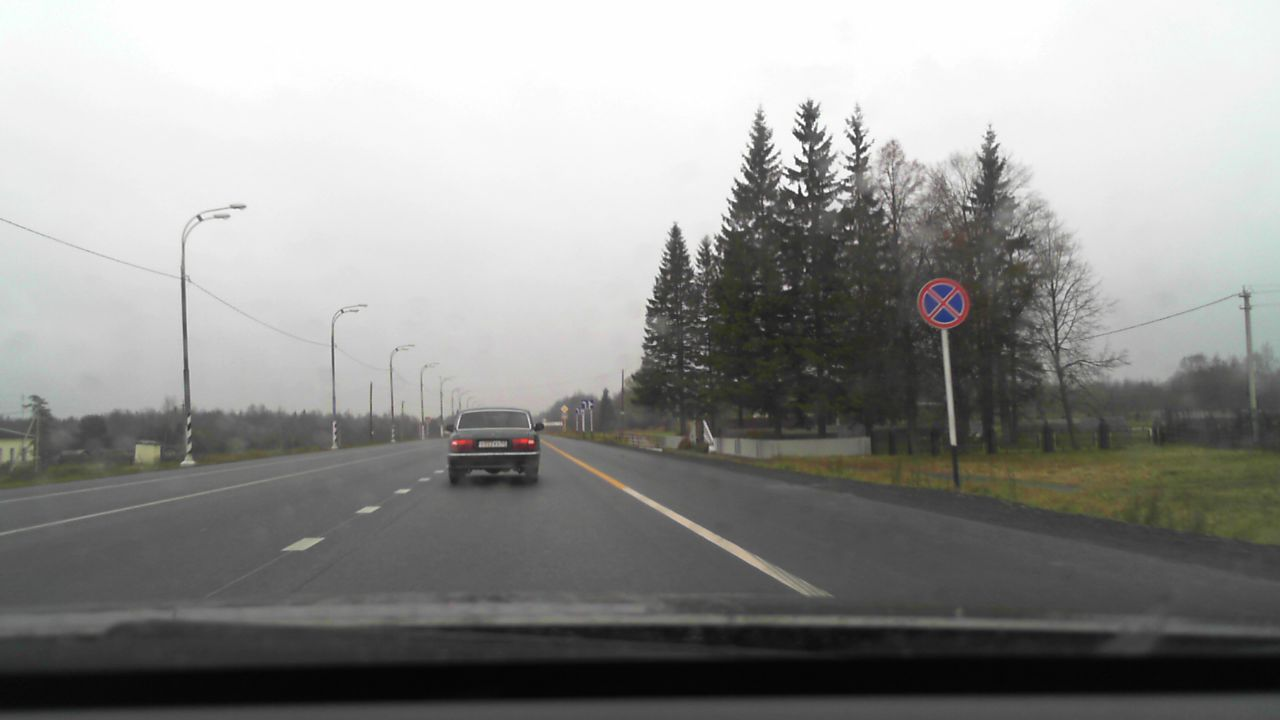No Parking: (918, 277, 969, 328)
